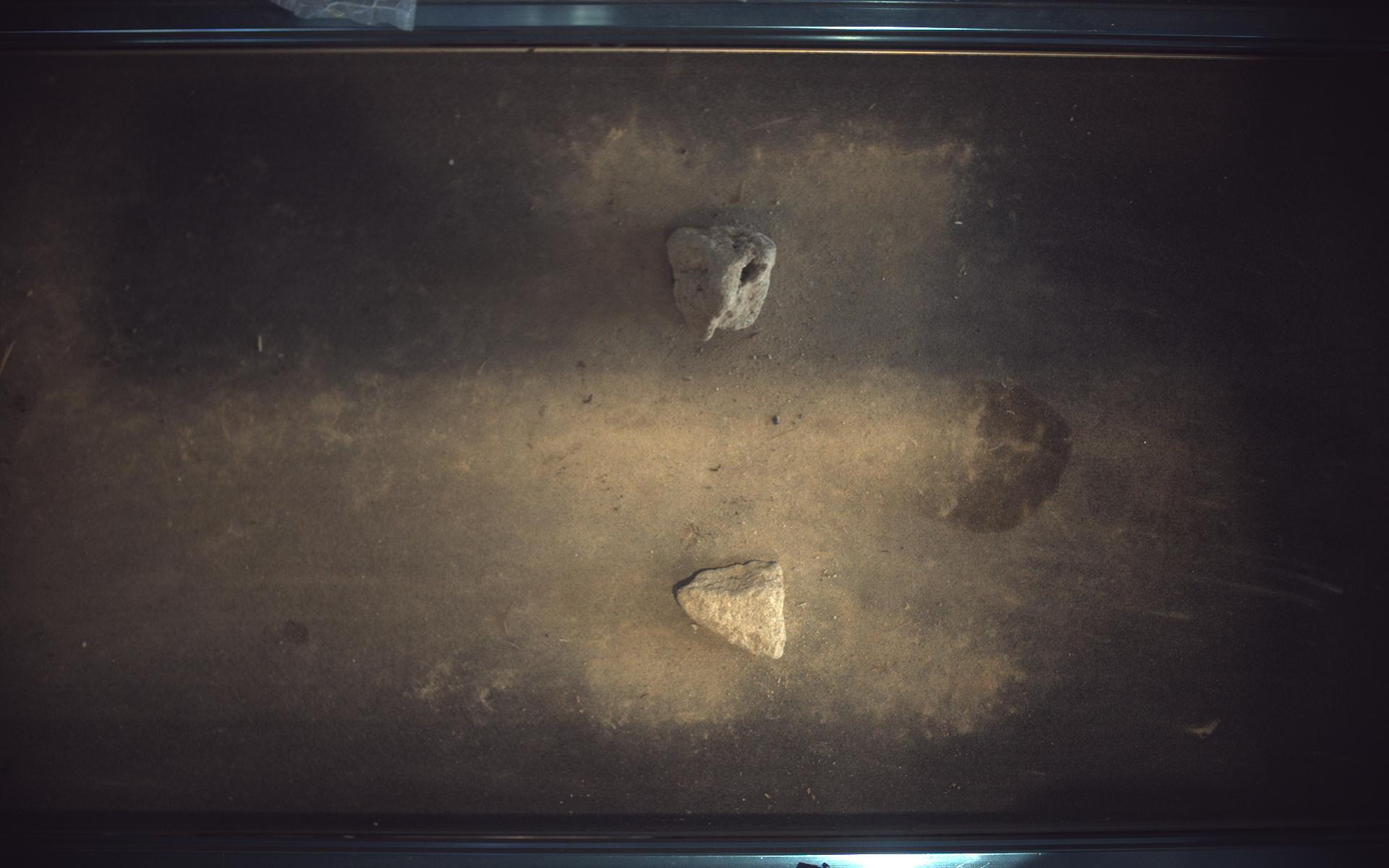stone: (668, 225, 778, 340), (677, 561, 787, 660)
